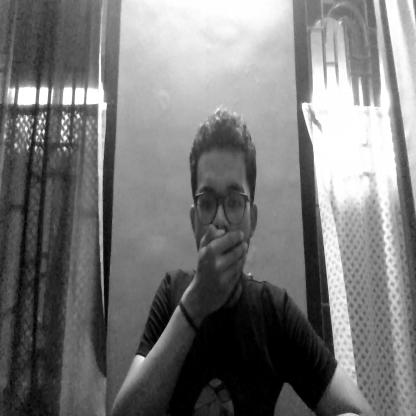Normal: (188, 111, 259, 294)
